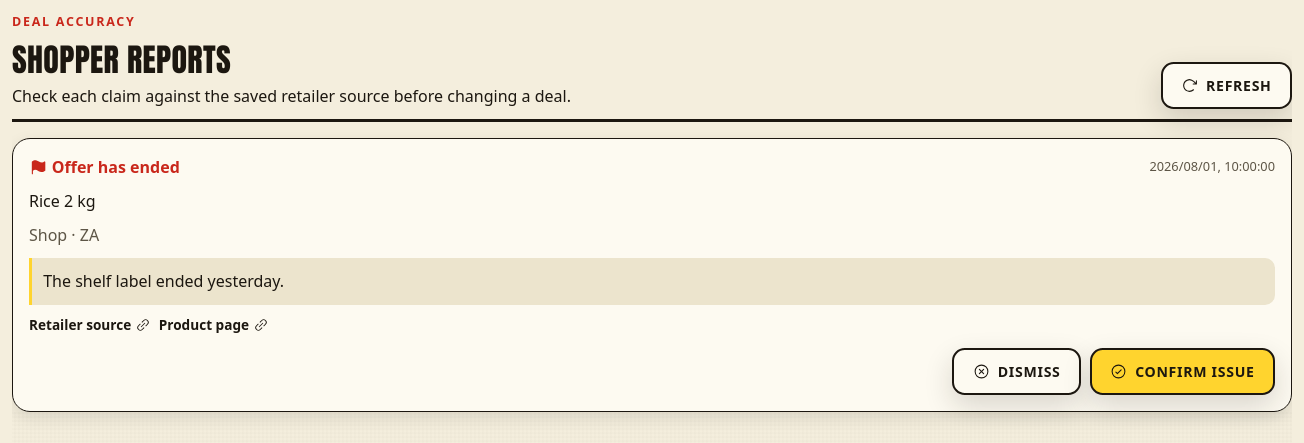
Test: AdminDealReportsPanel › shows source proof and clears a reviewed report
The image size is (1304, 443).
Check: the heading "Rice 2 kg" is shown, box [29,190,96,212]
Click the button "Confirm issue": (1182,372) [1090,348,1275,395]
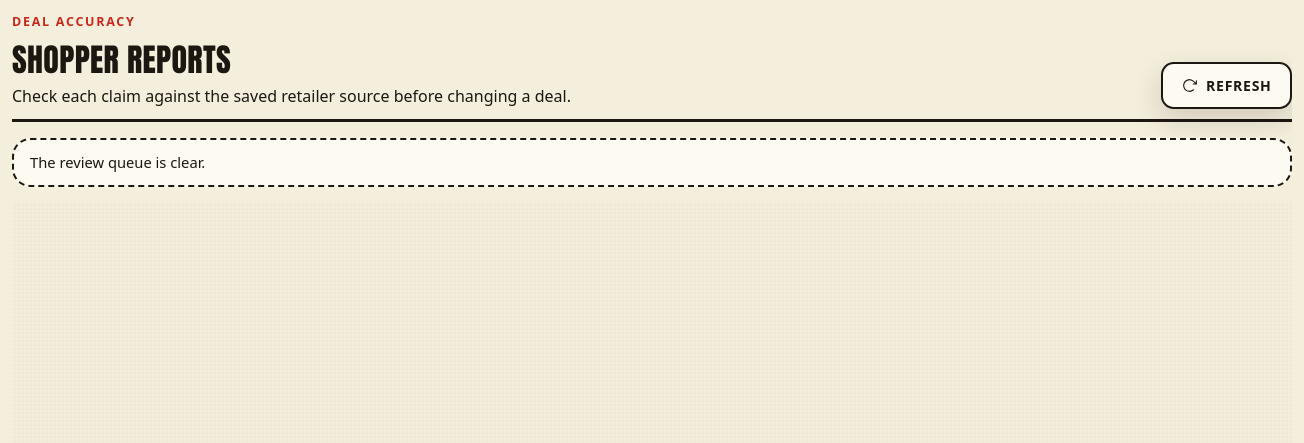
Check: the text "The review queue is clear." is shown, box [12,138,1292,187]
